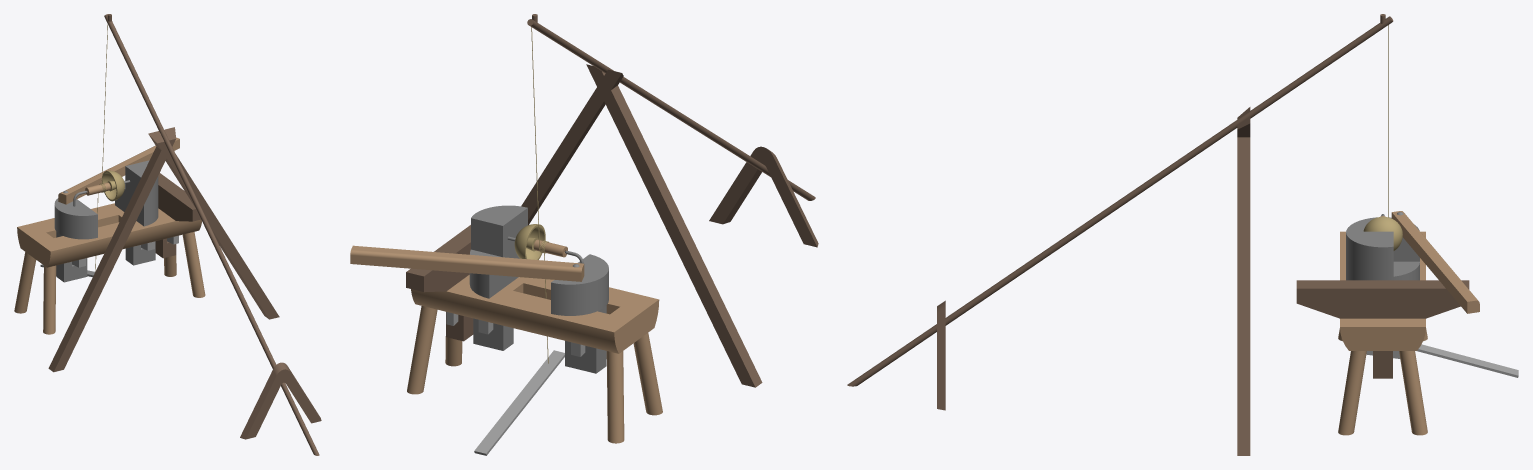
File: Torno GLTF.gltf
3 views of the same model, side by side, from view 1: azimuth 30°, elevation 25°; view 2: azimuth 150°, elevation 25°; view 3: azimuth 270°, elevation 25° (orthographic). The views are drawn at different scales.
Visible parts, largest first — view 1: Cortar-Extruir1, Cortar-Extruir2, Saliente-Extruir3, Obj_Cortar-Extruir3, Obj_Redondeo1, Cortar-Extruir3, Obj_Cortar-Extruir2, Redondeo1, Saliente-Extruir2, Saliente-Extruir2_2, Saliente-Extruir2_1, Cortar-Revolución4; view 2: Cortar-Extruir1, Cortar-Extruir2, Redondeo1, Cortar-Extruir3, Obj_Cortar-Extruir3, Obj_Redondeo1, Obj_Cortar-Extruir2, Saliente-Extruir3, Obj_Saliente-Extruir1_1, Saliente-Extruir2_1, Saliente-Extruir2_3, Saliente-Extruir2 (+2 smaller); view 3: Obj_Cortar-Extruir2, Cortar-Extruir1, Saliente-Extruir3, Cortar-Extruir2, Cortar-Extruir3, Redondeo1, Saliente-Extruir2_3, Saliente-Extruir2_2, Obj_Redondeo1, Obj_Saliente-Extruir1_1.
Part boxes in pixels (x1,y1,x2,y2): Cortar-Extruir1: (48, 127, 279, 372); Cortar-Extruir2: (17, 203, 201, 267); Saliente-Extruir3: (104, 14, 319, 455); Obj_Cortar-Extruir3: (54, 190, 97, 282); Obj_Redondeo1: (240, 362, 321, 439); Cortar-Extruir3: (115, 160, 158, 265); Obj_Cortar-Extruir2: (155, 173, 200, 258); Redondeo1: (58, 137, 179, 204); Saliente-Extruir2: (43, 241, 56, 334); Saliente-Extruir2_2: (182, 232, 205, 297); Saliente-Extruir2_1: (14, 230, 39, 313); Cortar-Revolución4: (101, 170, 124, 201); Cortar-Extruir1: (521, 64, 762, 387); Cortar-Extruir2: (411, 275, 659, 353); Redondeo1: (350, 245, 584, 281); Cortar-Extruir3: (469, 205, 527, 350); Obj_Cortar-Extruir3: (551, 250, 608, 373); Obj_Redondeo1: (709, 146, 818, 247); Obj_Cortar-Extruir2: (406, 225, 473, 341); Saliente-Extruir3: (527, 14, 815, 200); Obj_Saliente-Extruir1_1: (474, 350, 564, 455); Saliente-Extruir2_1: (606, 318, 624, 443); Saliente-Extruir2_3: (407, 306, 437, 394); Saliente-Extruir2: (629, 303, 662, 415); Obj_Cortar-Extruir2: (1296, 280, 1469, 378); Cortar-Extruir1: (1237, 107, 1250, 455); Saliente-Extruir3: (847, 14, 1393, 386); Cortar-Extruir2: (1340, 231, 1425, 350); Cortar-Extruir3: (1346, 231, 1419, 280); Redondeo1: (1391, 211, 1479, 313); Saliente-Extruir2_3: (1397, 319, 1427, 435); Saliente-Extruir2_2: (1338, 319, 1368, 435); Obj_Redondeo1: (937, 300, 945, 410); Obj_Saliente-Extruir1_1: (1417, 344, 1518, 377).
Size of the model in its own units: 0.158 by 0.1925 by 0.3166.
